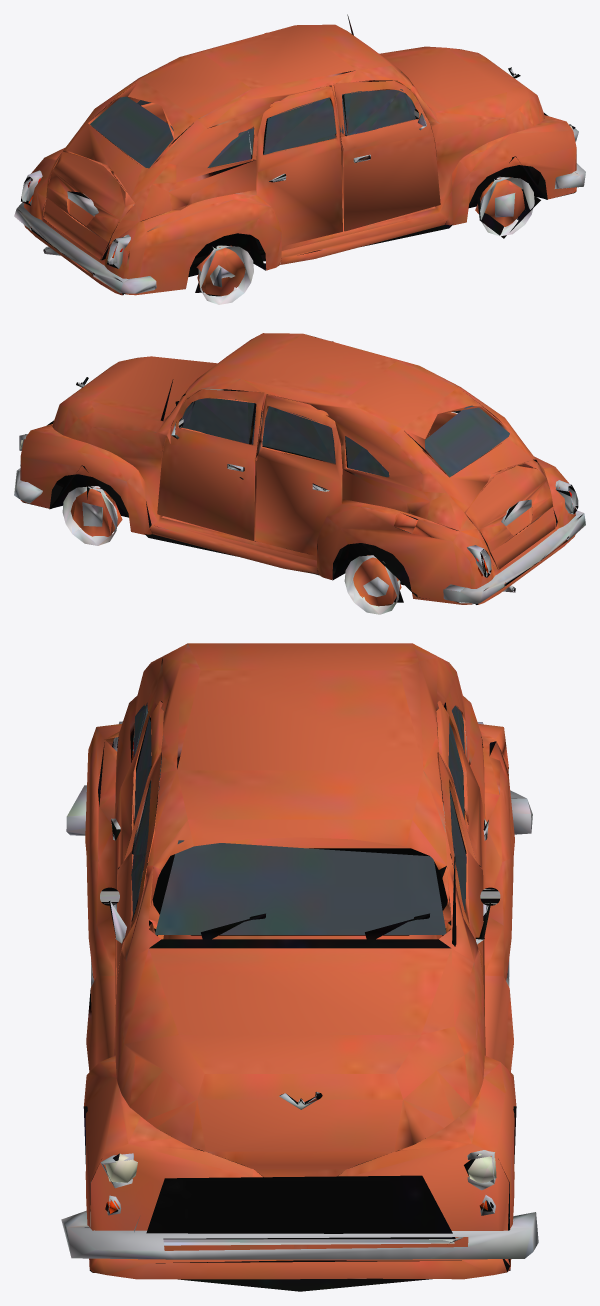
Rendered from car_b.glb.
The picture shows the model from 3 angles, top to bottom: view 1: azimuth 30°, elevation 25°; view 2: azimuth 150°, elevation 25°; view 3: azimuth 270°, elevation 25°; orthographic projection. The views are drawn at different scales.
Parts seen in each view (by area): view 1: CarB; view 2: CarB; view 3: CarB.
Boxes of the visible parts, <box> form: CarB: <box>14,14,585,304</box>; CarB: <box>14,333,585,614</box>; CarB: <box>61,643,538,1291</box>.
Size of the model in its own units: 4.69 by 1.73 by 2.02.
1 material, 1 textured.
